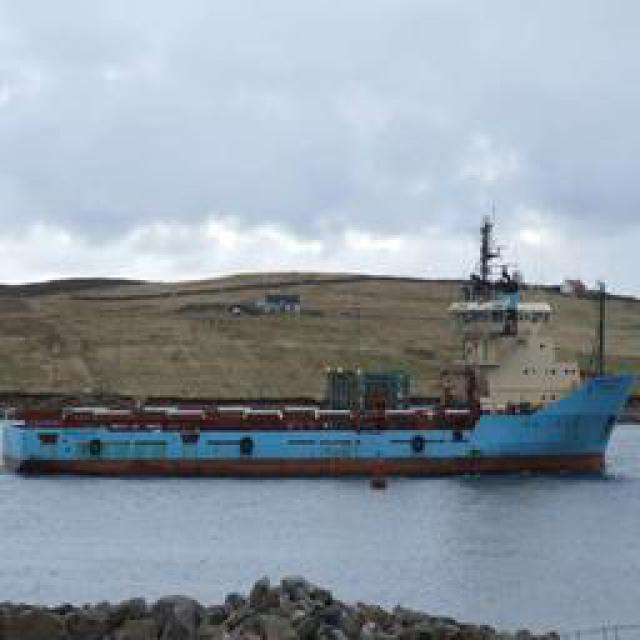Ship: (18, 370, 636, 483)
